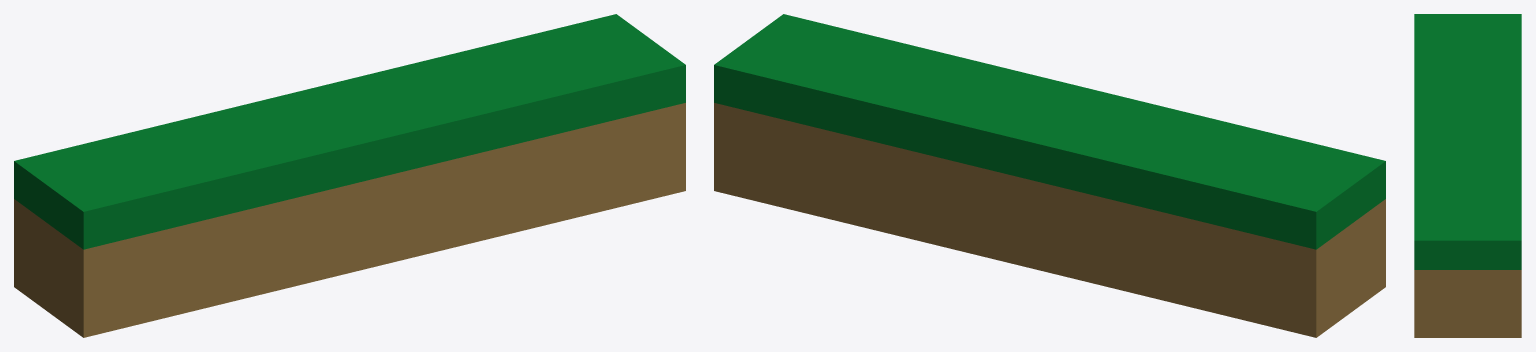
Rendered from GrassFloor.fbx.
The picture shows the model from 3 angles, left to right: view 1: azimuth 30°, elevation 25°; view 2: azimuth 150°, elevation 25°; view 3: azimuth 270°, elevation 25°; orthographic projection. The views are drawn at different scales.
Parts seen in each view (by area): view 1: pCube89; view 2: pCube89; view 3: pCube89.
Boxes of the visible parts, x1,y1,x2,y2 form: pCube89: [14, 14, 685, 337]; pCube89: [714, 14, 1385, 337]; pCube89: [1414, 14, 1521, 337].
Size of the model in its own units: 2000 by 400 by 400.
